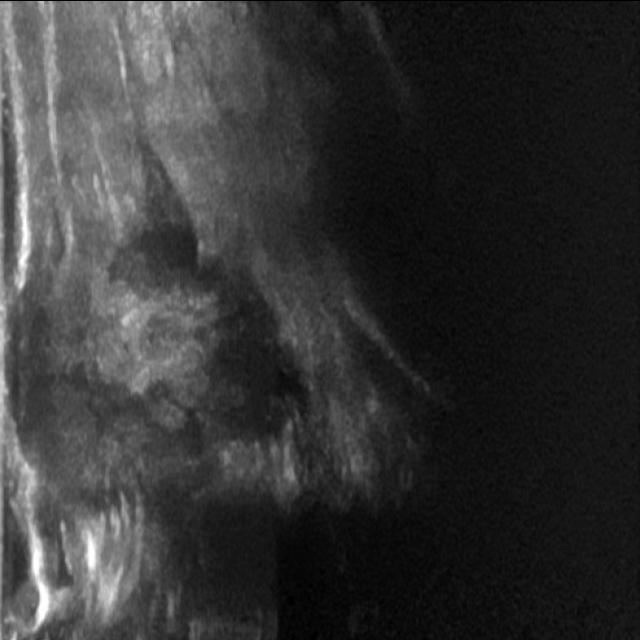Malignant: (113, 276, 288, 426)
